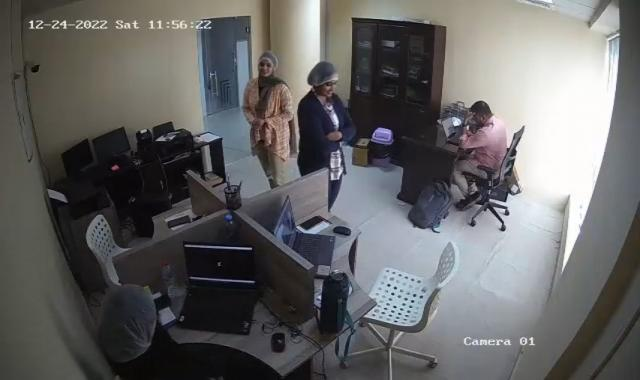hairnet: (99, 284, 155, 360), (308, 60, 339, 99), (257, 50, 277, 81)
no_hairnet: (469, 100, 493, 128)
